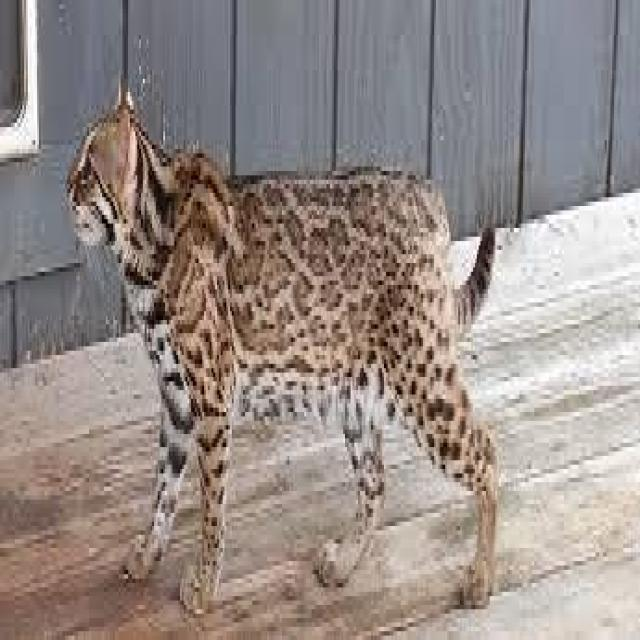leopard: (66, 75, 534, 568)
